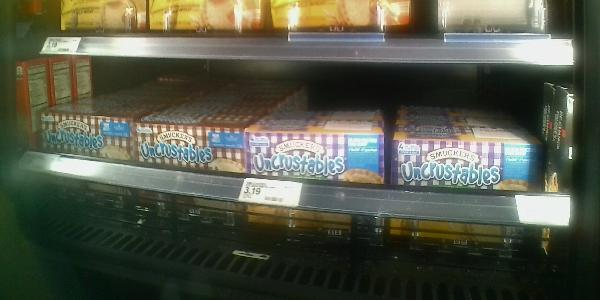icecream: (392, 112, 550, 196), (243, 118, 392, 185), (139, 105, 249, 173), (34, 101, 142, 169)
